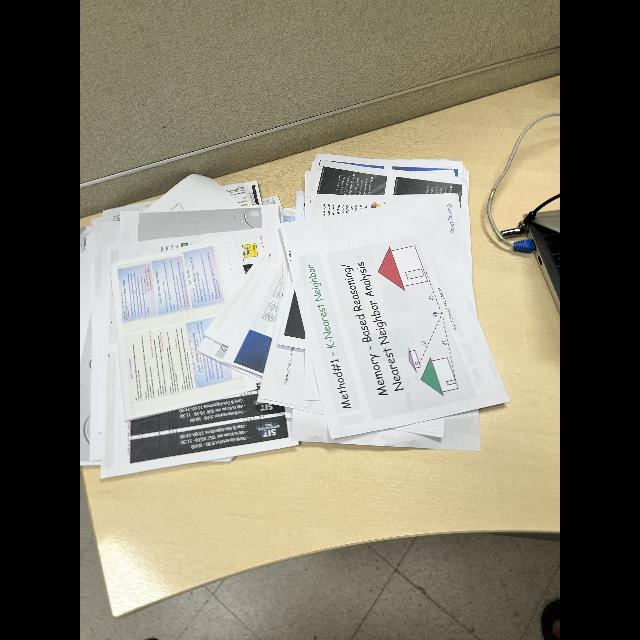reuseable_paper: (80, 156, 500, 484)
